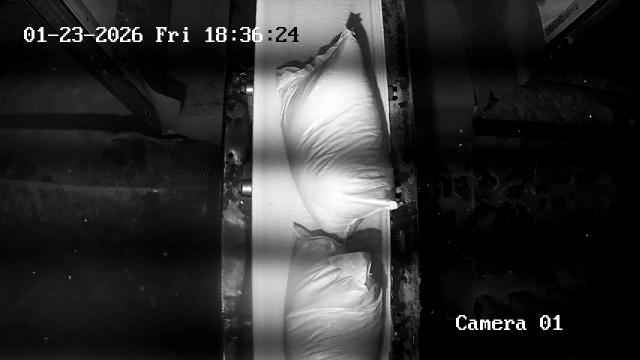bag: (277, 27, 396, 242), (284, 224, 383, 360)
